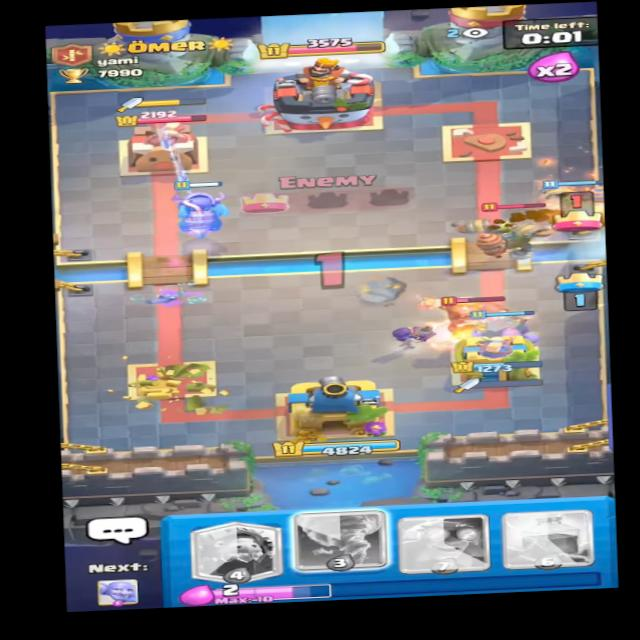giant: (414, 289, 530, 346)
goblin-machine: (454, 200, 564, 256)
